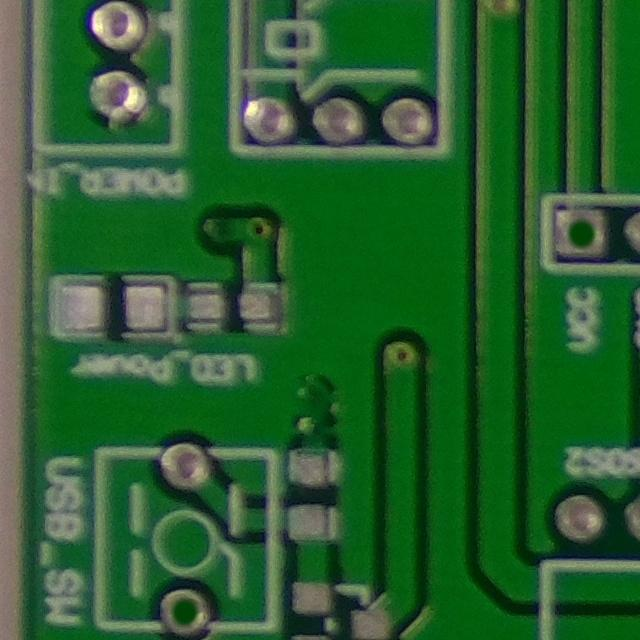missing_hole: (546, 199, 614, 271), (145, 578, 220, 640)
